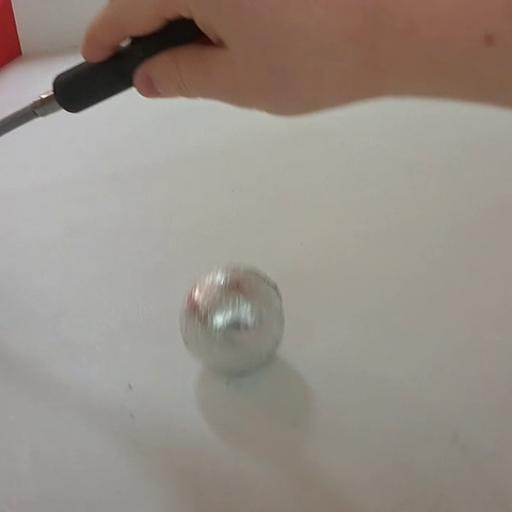alive: (177, 262, 288, 379)
